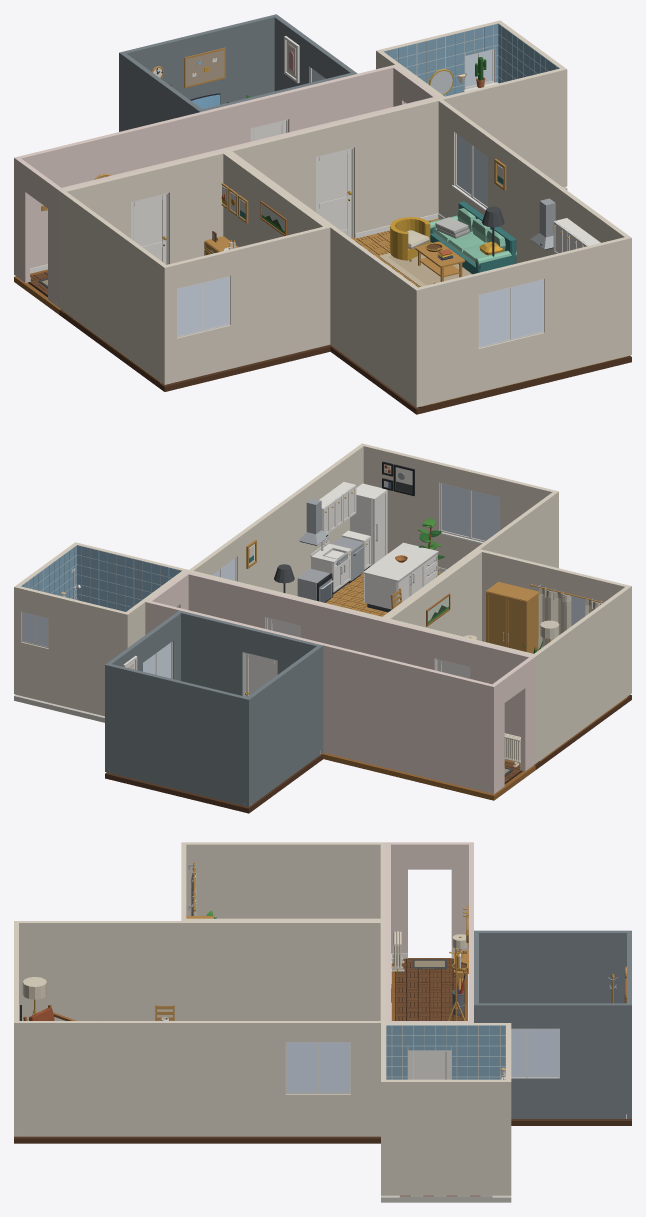
File: SM_LPI_Room_FlatOpenplan.fbx
3 views of the same model, one above another, from view 1: azimuth 30°, elevation 25°; view 2: azimuth 150°, elevation 25°; view 3: azimuth 270°, elevation 25° (orthographic). The views are drawn at different scales.
Parts seen in each view (by area): view 1: SM_LPI_Room_OpenPlan, SM_LPI_Room_Bedroom, SM_LPI_Room_Hall, SM_LPI_Room_Bathroom, SM_LPI_Room_Office, SM_LPI_Room_OpenPlanGlass, SM_LPI_Seat_Sofa_02.001, SM_LPI_Open_DoorSet_01.002, SM_LPI_Room_BedroomGlass, SM_LPI_Open_DoorSet_01.001, SM_LPI_Seat_Armchair_03.001, SM_LPI_Office_Pinboard_01.001 (+7 smaller); view 2: SM_LPI_Room_Hall, SM_LPI_Room_Office, SM_LPI_Room_OpenPlan, SM_LPI_Room_Bedroom, SM_LPI_Room_Bathroom, SM_LPI_Kitchen_Island_01.001, SM_LPI_Storage_Wardrobe_01.001, SM_LPI_Room_OpenPlanGlass, SM_LPI_Appl_Fridge_01.001, SM_LPI_Text_Curtain_01.001, SM_LPI_Kitchen_SinkBase_01.001, SM_LPI_Open_DoorSet_01.003 (+7 smaller); view 3: SM_LPI_Room_OpenPlan, SM_LPI_Room_Office, SM_LPI_Room_Bathroom, SM_LPI_Room_Bedroom, SM_LPI_Room_Hall, SM_LPI_Room_OpenPlanGlass, SM_LPI_Room_OfficeGlass, SM_LPI_Open_DoorSet_01.004, SM_LPI_Room_OpenPlanGlassFrame, SM_LPI_Light_Floor_03.001.
Part boxes in pixels (x1,y1,x2,y2): SM_LPI_Room_OpenPlan: (225,98,631,414); SM_LPI_Room_Bedroom: (59,150,330,391); SM_LPI_Room_Hall: (14,64,440,314); SM_LPI_Room_Bathroom: (376,20,567,190); SM_LPI_Room_Office: (119,14,357,131); SM_LPI_Room_OpenPlanGlass: (457,134,542,346); SM_LPI_Seat_Sofa_02.001: (429,201,516,274); SM_LPI_Open_DoorSet_01.002: (316,148,353,237); SM_LPI_Room_BedroomGlass: (177,277,228,336); SM_LPI_Open_DoorSet_01.001: (131,193,168,264); SM_LPI_Seat_Armchair_03.001: (390,217,430,261); SM_LPI_Office_Pinboard_01.001: (184,47,225,88); SM_LPI_Room_Hall: (145,571,535,800); SM_LPI_Room_Office: (105,610,323,813); SM_LPI_Room_OpenPlan: (187,443,558,619); SM_LPI_Room_Bedroom: (384,549,631,769); SM_LPI_Room_Bathroom: (14,542,188,722); SM_LPI_Kitchen_Island_01.001: (363,542,438,612); SM_LPI_Storage_Wardrobe_01.001: (486,582,538,653); SM_LPI_Room_OpenPlanGlass: (212,483,499,580); SM_LPI_Appl_Fridge_01.001: (350,483,387,567); SM_LPI_Text_Curtain_01.001: (530,584,603,649); SM_LPI_Kitchen_SinkBase_01.001: (310,539,351,594); SM_LPI_Open_DoorSet_01.003: (243,652,277,696); SM_LPI_Room_OpenPlan: (14,921,385,1143); SM_LPI_Room_Office: (474,930,631,1125); SM_LPI_Room_Bathroom: (381,1023,511,1202); SM_LPI_Room_Bedroom: (181,842,385,920); SM_LPI_Room_Hall: (385,842,473,1022); SM_LPI_Room_OpenPlanGlass: (287,1042,349,1092); SM_LPI_Room_OfficeGlass: (511,1029,558,1076); SM_LPI_Open_DoorSet_01.004: (408,1050,451,1079); SM_LPI_Room_OpenPlanGlassFrame: (285,1042,350,1093); SM_LPI_Light_Floor_03.001: (22,977,46,1015).
Size of the model in its own units: 12.2 by 2.87 by 13.3.
